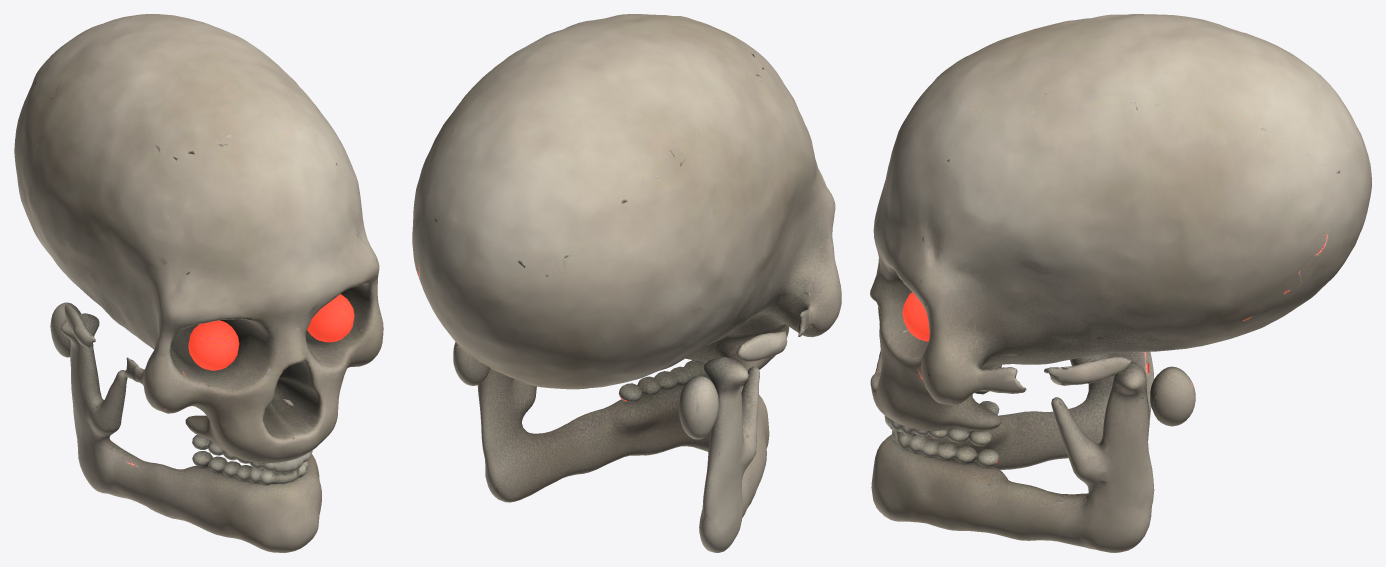
File: giant_skull.glb
The picture shows the model from 3 angles, left to right: view 1: azimuth 30°, elevation 25°; view 2: azimuth 150°, elevation 25°; view 3: azimuth 270°, elevation 25°; orthographic projection. The views are drawn at different scales.
Parts seen in each view (by area): view 1: Giant_Skull, Giant_Jaw, Giant_Teeth, Eye_Glow_R, Eye_Glow_L; view 2: Giant_Skull, Giant_Jaw, Giant_Teeth; view 3: Giant_Skull, Giant_Jaw, Giant_Teeth, Eye_Glow_L.
Part boxes in pixels (x1=…): Giant_Skull: x1=14, y1=14, x2=383, y2=463; Giant_Jaw: x1=60, y1=313, x2=321, y2=552; Giant_Teeth: x1=192, y1=435, x2=312, y2=485; Eye_Glow_R: x1=188, y1=320, x2=239, y2=370; Eye_Glow_L: x1=307, y1=294, x2=354, y2=342; Giant_Skull: x1=412, y1=14, x2=841, y2=439; Giant_Jaw: x1=477, y1=357, x2=769, y2=552; Giant_Teeth: x1=618, y1=360, x2=743, y2=402; Giant_Skull: x1=870, y1=14, x2=1371, y2=431; Giant_Jaw: x1=871, y1=351, x2=1154, y2=552; Giant_Teeth: x1=884, y1=391, x2=999, y2=467; Eye_Glow_L: x1=902, y1=292, x2=929, y2=341.
Bounding box in the file's own units: 0.9595 × 1.56 × 1.46.
1 material, 1 textured.
